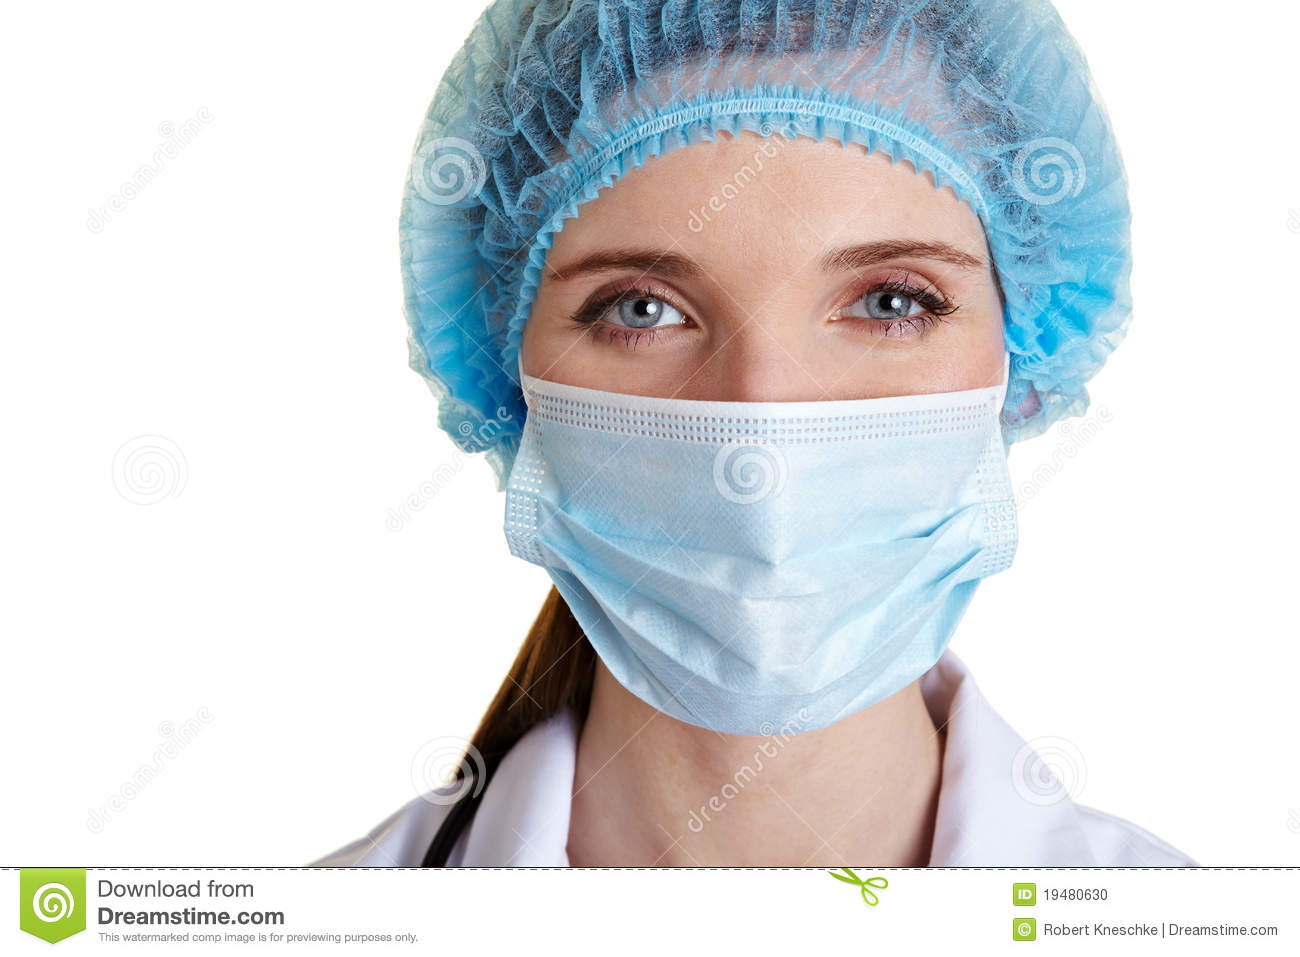mask: (494, 369, 1019, 721)
